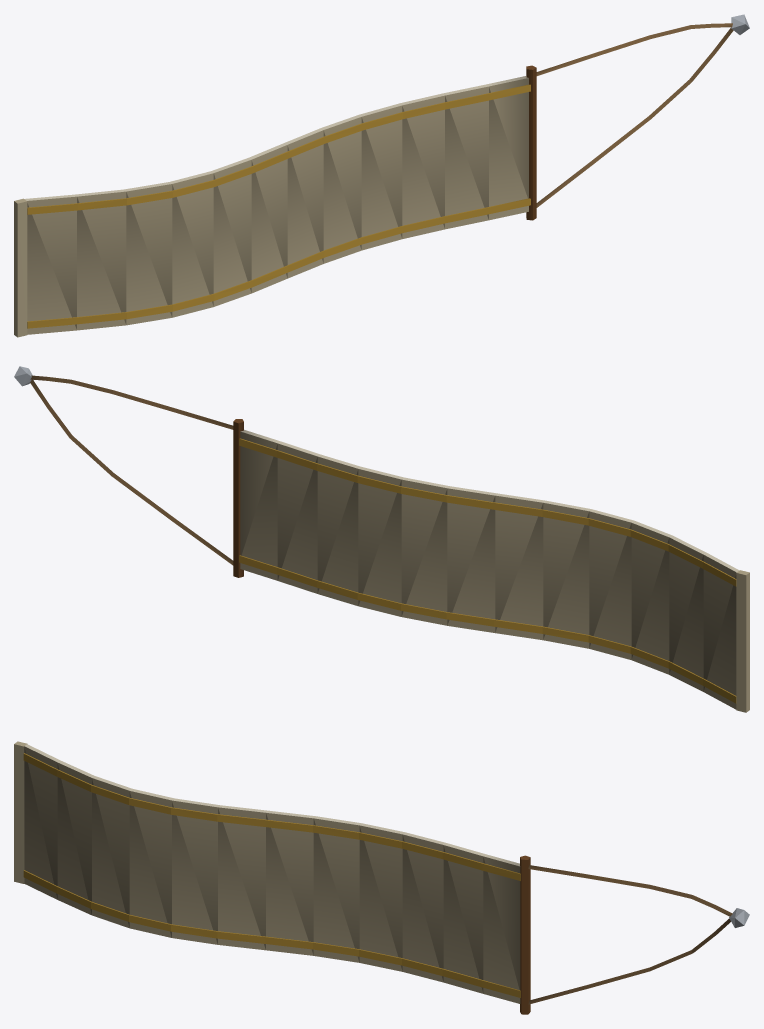
File: gd_plane_banner.glb
3 renders of one model, top to bottom at view 1: azimuth 30°, elevation 25°; view 2: azimuth 150°, elevation 25°; view 3: azimuth 330°, elevation 25°, orthographic. The views are drawn at different scales.
Visible parts, largest first — view 1: base; view 2: base; view 3: base.
Part boxes in pixels (box(x1,y1,x2,y2)): base: box(14, 14, 749, 337); base: box(14, 366, 749, 712); base: box(14, 741, 749, 1014).
Size of the model in its own units: 0.9024 by 0.1844 by 0.056.
